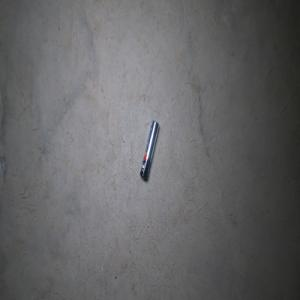Battery: (139, 119, 159, 181)
